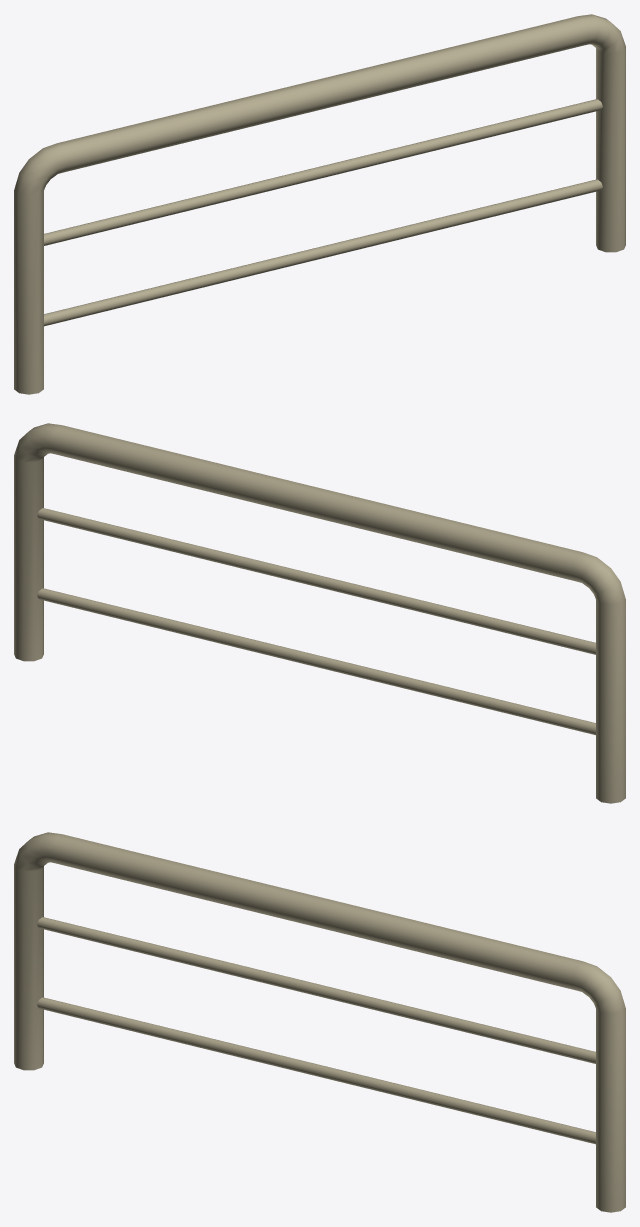
Rendered from SM_railing_02.glb.
3 renders of one model, top to bottom at view 1: azimuth 30°, elevation 25°; view 2: azimuth 150°, elevation 25°; view 3: azimuth 330°, elevation 25°, orthographic.
Parts seen in each view (by area): view 1: SM_railing_02; view 2: SM_railing_02; view 3: SM_railing_02.
Boxes of the visible parts, x1,y1,x2,y2 form: SM_railing_02: (14,14,625,394); SM_railing_02: (14,423,625,803); SM_railing_02: (14,832,625,1212).
Size of the model in its own units: 2.3 by 0.8535 by 0.0985.
